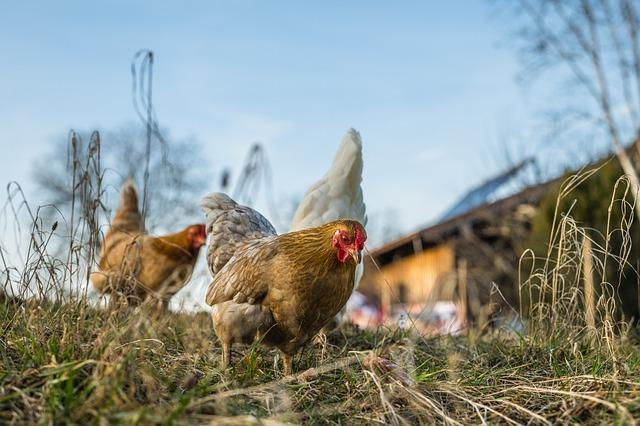Non_Gorille: (48, 50, 544, 385)
